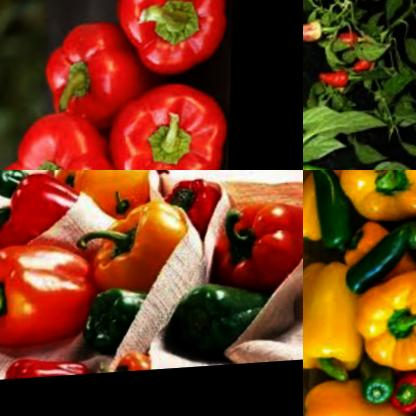bell pepper: (303, 170, 416, 416), (43, 16, 164, 133), (0, 240, 102, 356), (103, 80, 230, 170), (85, 198, 193, 296), (113, 0, 227, 85), (170, 278, 273, 363), (214, 198, 303, 296), (0, 170, 83, 255), (0, 109, 113, 170), (57, 170, 159, 229), (82, 283, 157, 359), (164, 176, 228, 235), (0, 350, 92, 381), (109, 350, 152, 375), (0, 170, 31, 200)
hot pepper: (303, 154, 369, 170), (303, 13, 329, 49), (315, 68, 349, 92), (332, 31, 358, 53), (345, 56, 371, 78)
